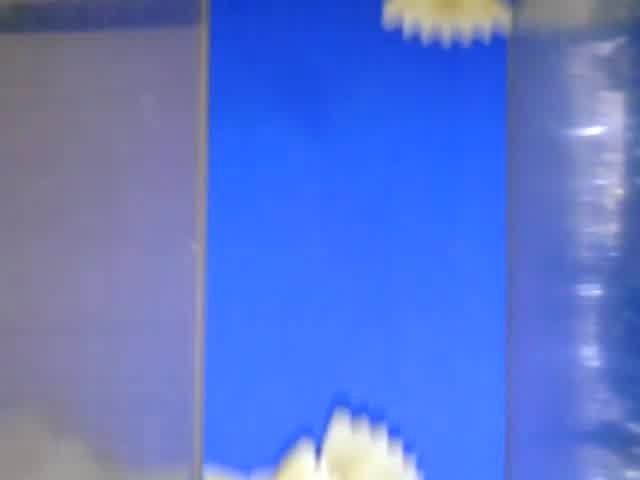farfalle: (310, 408, 422, 480), (380, 1, 510, 46)
